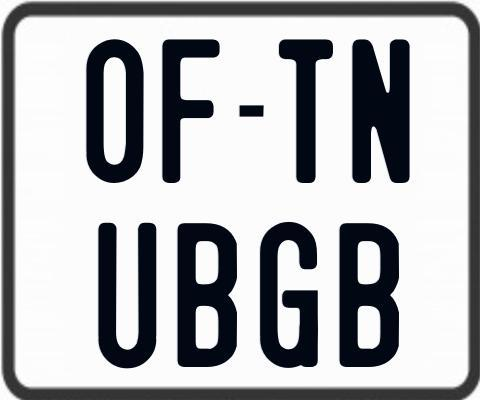0: (84, 37, 144, 187)
B: (340, 221, 403, 369), (177, 222, 236, 369)
F: (161, 36, 224, 181)
G: (260, 222, 321, 371)
N: (350, 37, 410, 181)
T: (276, 36, 336, 184)
U: (97, 222, 160, 370)
